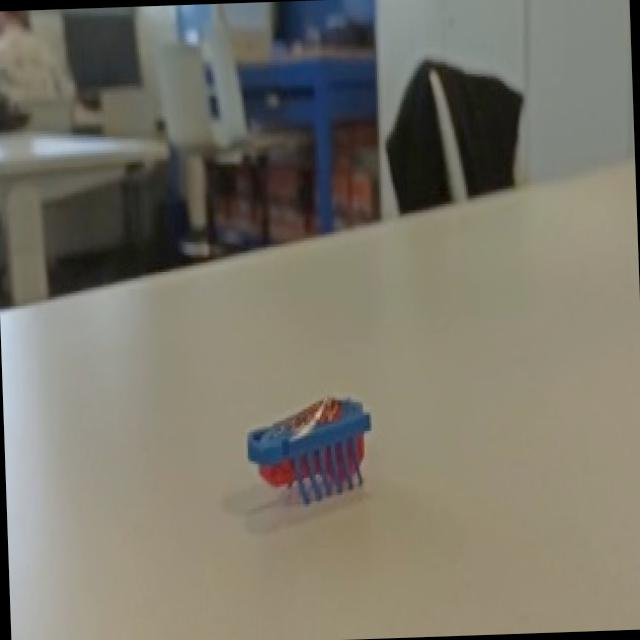1_NanoBug_Azul: (194, 348, 413, 520)
